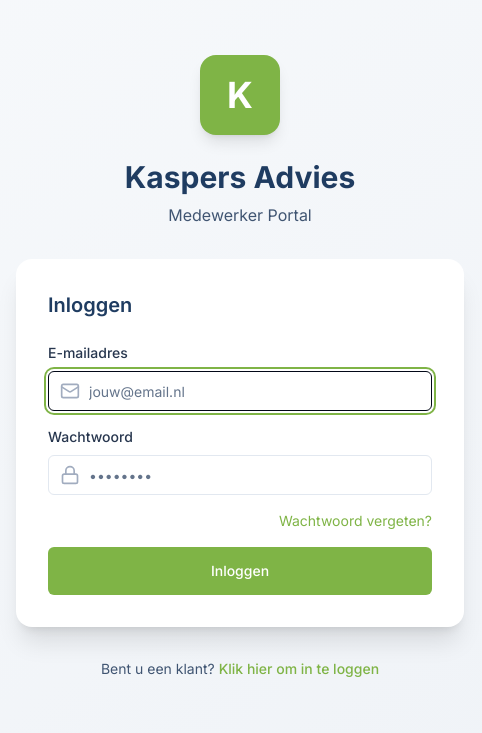
Test: LoginPage › error handling › displays error message on failed login
Step 1. Type "bad@example.com" into the field with placeholder "jouw@email.nl" → (240,391), box 48,371 -> 432,411
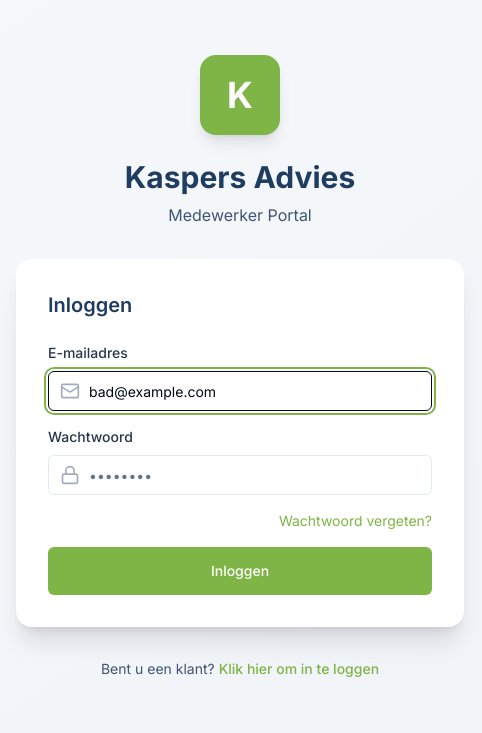
Step 2. Type "wrongpassword" into the password field with placeholder "••••••••" → (240,475), box 48,455 -> 432,495
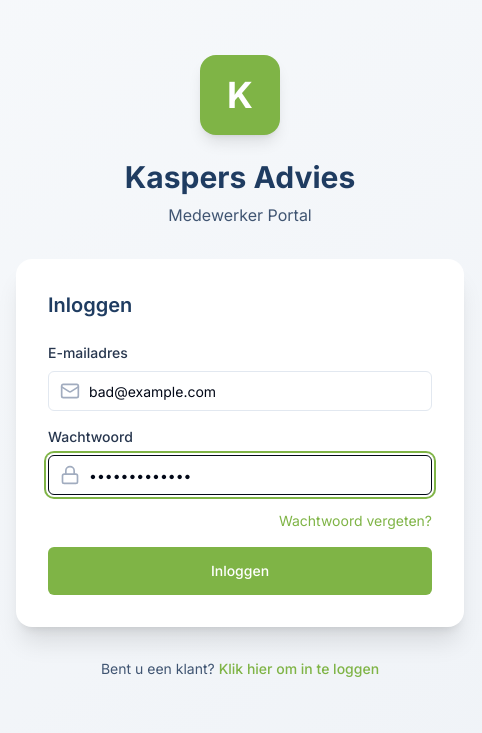
Step 3. Click the button "Inloggen" → (240,571), box 48,547 -> 432,595
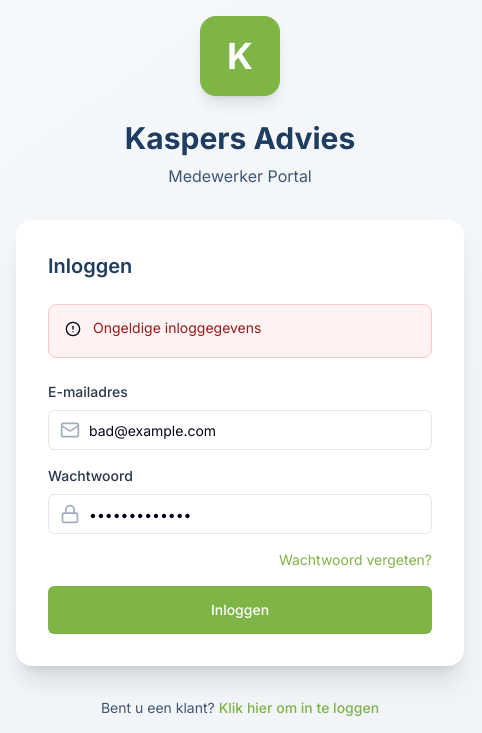
Result: the text "Ongeldige inloggegevens" is shown at 93,319 -> 261,336
